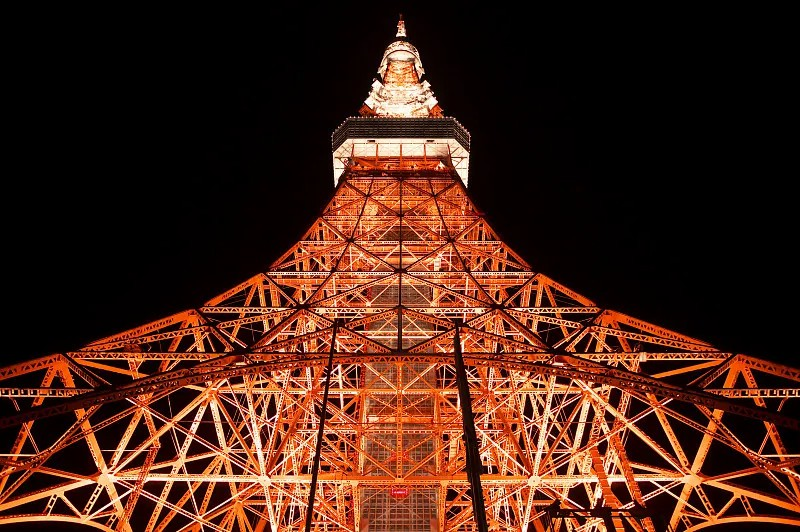Tokyo: (1, 13, 800, 530)
